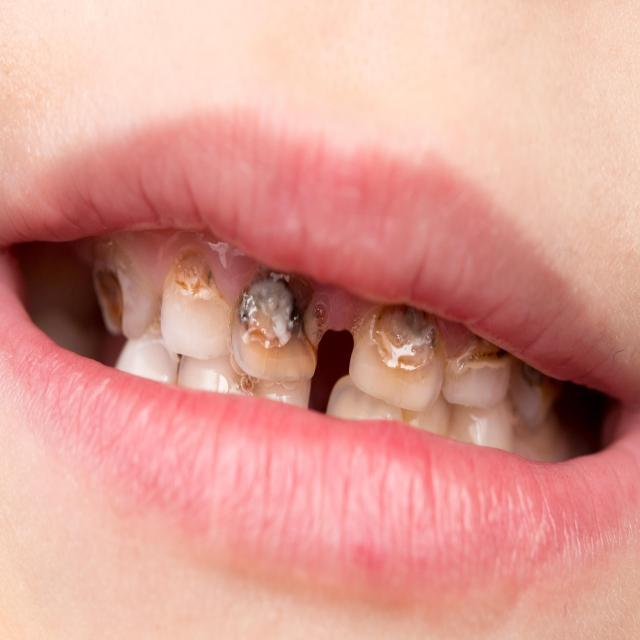caries: (235, 247, 322, 389), (356, 294, 443, 403), (184, 332, 312, 406), (161, 240, 237, 361), (96, 223, 154, 346), (452, 328, 523, 418)
